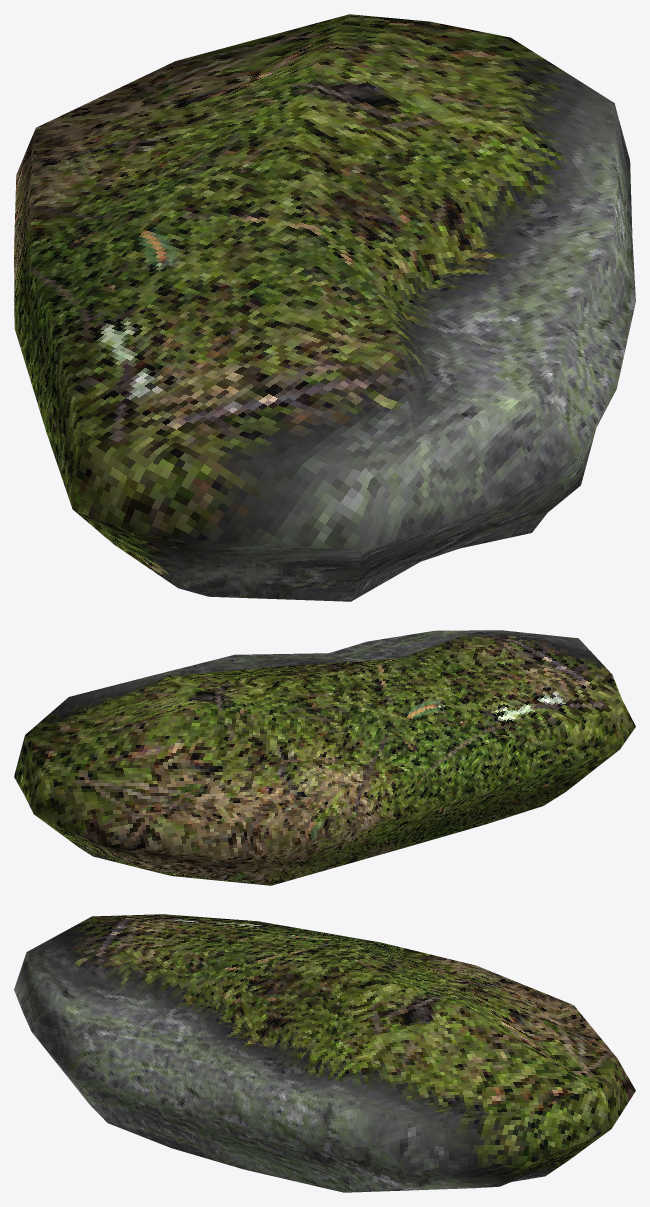
The model's file is rock_01_small_mossy.glb.
3 renders of one model, top to bottom at view 1: azimuth 30°, elevation 25°; view 2: azimuth 150°, elevation 25°; view 3: azimuth 270°, elevation 25°, orthographic. The views are drawn at different scales.
Parts seen in each view (by area): view 1: rock_01_small_mossy; view 2: rock_01_small_mossy; view 3: rock_01_small_mossy.
Boxes of the visible parts, x1,y1,x2,y2 form: rock_01_small_mossy: [14, 14, 635, 601]; rock_01_small_mossy: [14, 630, 635, 885]; rock_01_small_mossy: [14, 914, 635, 1192].
Size of the model in its own units: 0.6887 by 0.2056 by 0.7997.
1 material, 1 textured.
